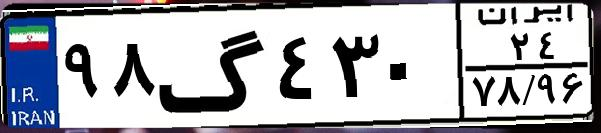0: (385, 28, 445, 110)
2: (508, 27, 537, 80)
3: (330, 28, 385, 110)
4: (270, 28, 330, 110), (537, 27, 568, 80)
6: (560, 70, 590, 125)
7: (470, 70, 495, 125)
8: (110, 28, 156, 98), (495, 70, 520, 125)
9: (57, 26, 110, 100), (535, 70, 560, 125)
گ: (156, 12, 270, 120)
